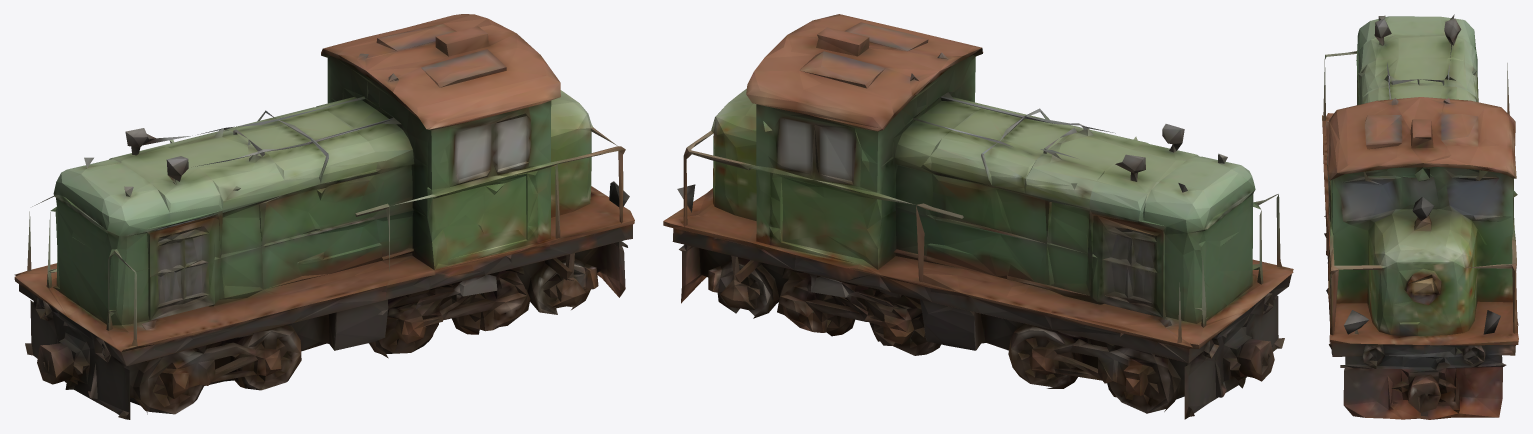
Rendered from diesel_shunter.54ef9ec915.glb.
3 views of the same model, side by side, from view 1: azimuth 30°, elevation 25°; view 2: azimuth 150°, elevation 25°; view 3: azimuth 270°, elevation 25° (orthographic). The views are drawn at different scales.
Parts seen in each view (by area): view 1: diesel_shunter; view 2: diesel_shunter; view 3: diesel_shunter.
Boxes of the visible parts, box(x1,y1,x2,y2) form: diesel_shunter: box(14, 14, 634, 419); diesel_shunter: box(663, 14, 1293, 419); diesel_shunter: box(1322, 14, 1518, 419).
Bounding box in the file's own units: 9.51 × 4.34 × 3.16.
1 material, 1 textured.
